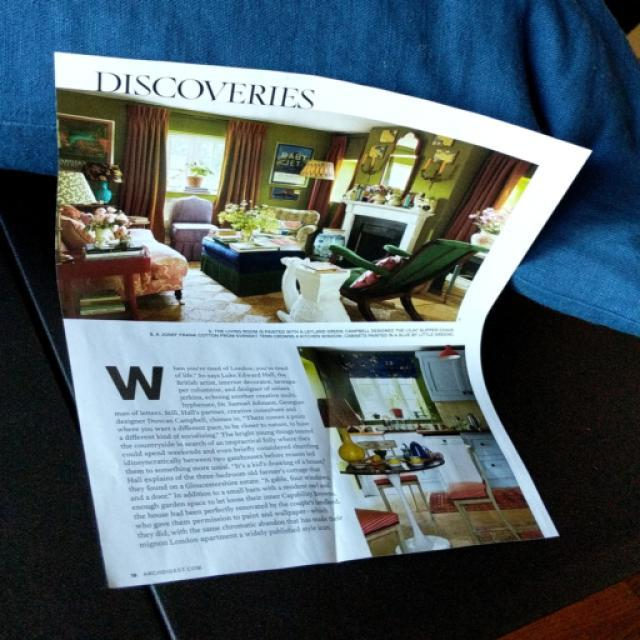document: (55, 52, 588, 586)
